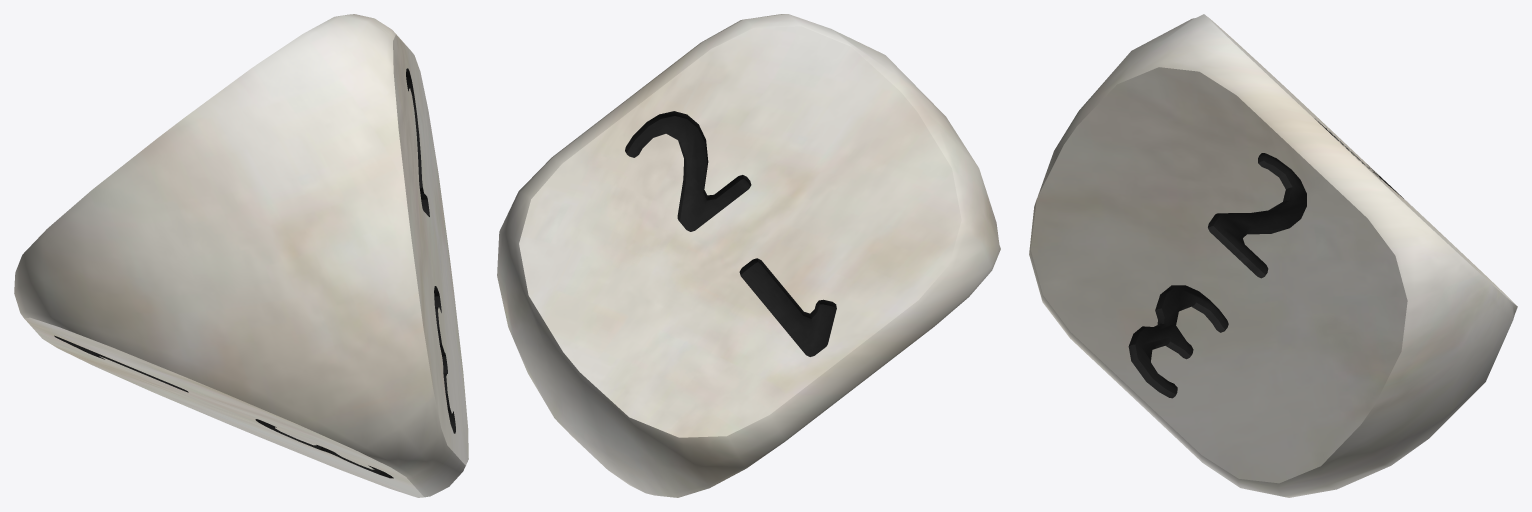
File: Dice003.fbx
3 views of the same model, side by side, from view 1: azimuth 30°, elevation 25°; view 2: azimuth 150°, elevation 25°; view 3: azimuth 270°, elevation 25° (orthographic). The views are drawn at different scales.
Parts seen in each view (by area): view 1: Dice003; view 2: Dice003; view 3: Dice003.
Part boxes in pixels (x1,y1,x2,y2): Dice003: (14, 14, 468, 497); Dice003: (497, 14, 1000, 497); Dice003: (1029, 14, 1517, 497).
Size of the model in its own units: 5.72 by 5.8 by 6.11.
Materials: 1 (1 with a texture image).
